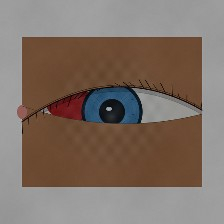hemorrhage_spot: (37, 76, 108, 133)
